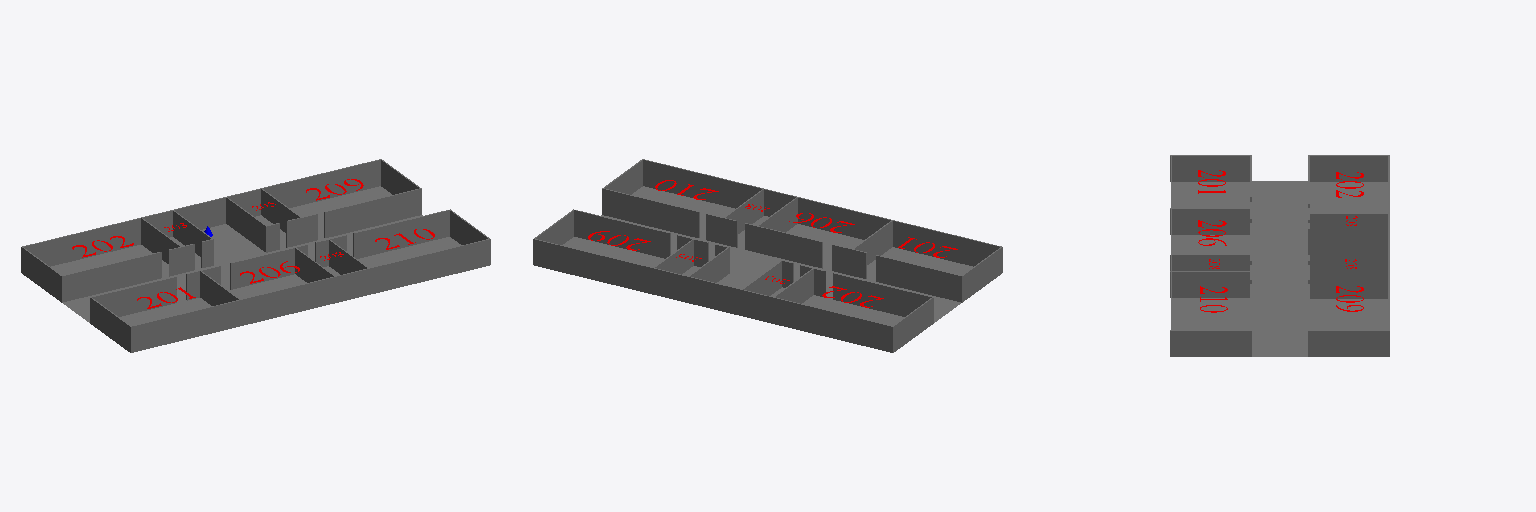
Rendered from wood2.obj.
The picture shows the model from 3 angles: view 1: azimuth 30°, elevation 25°; view 2: azimuth 150°, elevation 25°; view 3: azimuth 270°, elevation 25°; orthographic projection.
Visible parts, largest first — view 1: pCube13, pPlane1, pCube12, pCube23, pCube35, pCube18, pCube14, pCube15, pCube6, pCube3, pCube7, pCube34 (+10 smaller); view 2: pCube12, pPlane1, pCube13, pCube18, pCube35, pCube14, pCube23, pCube15, pCube7, pCube6, pCube28, pCube16 (+9 smaller); view 3: pPlane1, pCube11, pCube2, pCube4, pCube31, pCube7, pCube6, pCube25, pCube1, pCube3, pCube9, pCube24.
Boxes of the visible parts, box(x1,y1,x2,y2) form: pCube13: box(130, 239, 489, 352); pPlane1: box(51, 186, 460, 325); pCube12: box(21, 159, 381, 272); pCube23: box(63, 252, 161, 301); pCube35: box(324, 188, 420, 237); pCube18: box(353, 209, 450, 258); pCube14: box(90, 276, 176, 323); pCube15: box(230, 244, 307, 289); pCube6: box(22, 247, 62, 302); pCube3: box(226, 197, 266, 252); pCube7: box(91, 298, 131, 352); pCube34: box(286, 214, 317, 247); pCube12: box(533, 239, 893, 352); pPlane1: box(562, 186, 972, 325); pCube13: box(643, 159, 1001, 266); pCube18: box(602, 188, 699, 237); pCube35: box(573, 209, 670, 258); pCube14: box(876, 255, 962, 302); pCube23: box(833, 273, 931, 316); pCube15: box(745, 223, 822, 268); pCube7: box(962, 247, 1002, 301); pCube6: box(894, 297, 933, 351); pCube28: box(832, 244, 866, 278); pCube16: box(706, 214, 737, 247); pPlane1: box(1172, 181, 1387, 356); pCube11: box(1170, 330, 1249, 356); pCube2: box(1308, 330, 1387, 356); pCube4: box(1308, 229, 1387, 254); pCube31: box(1170, 271, 1249, 297); pCube7: box(1170, 155, 1249, 181); pCube6: box(1308, 155, 1387, 181); pCube25: box(1170, 208, 1249, 234); pCube1: box(1310, 272, 1387, 298); pCube3: box(1310, 255, 1387, 271); pCube9: box(1170, 255, 1249, 270); pCube24: box(1308, 213, 1387, 228).
Size of the model in its own units: 2864 by 201 by 1508.